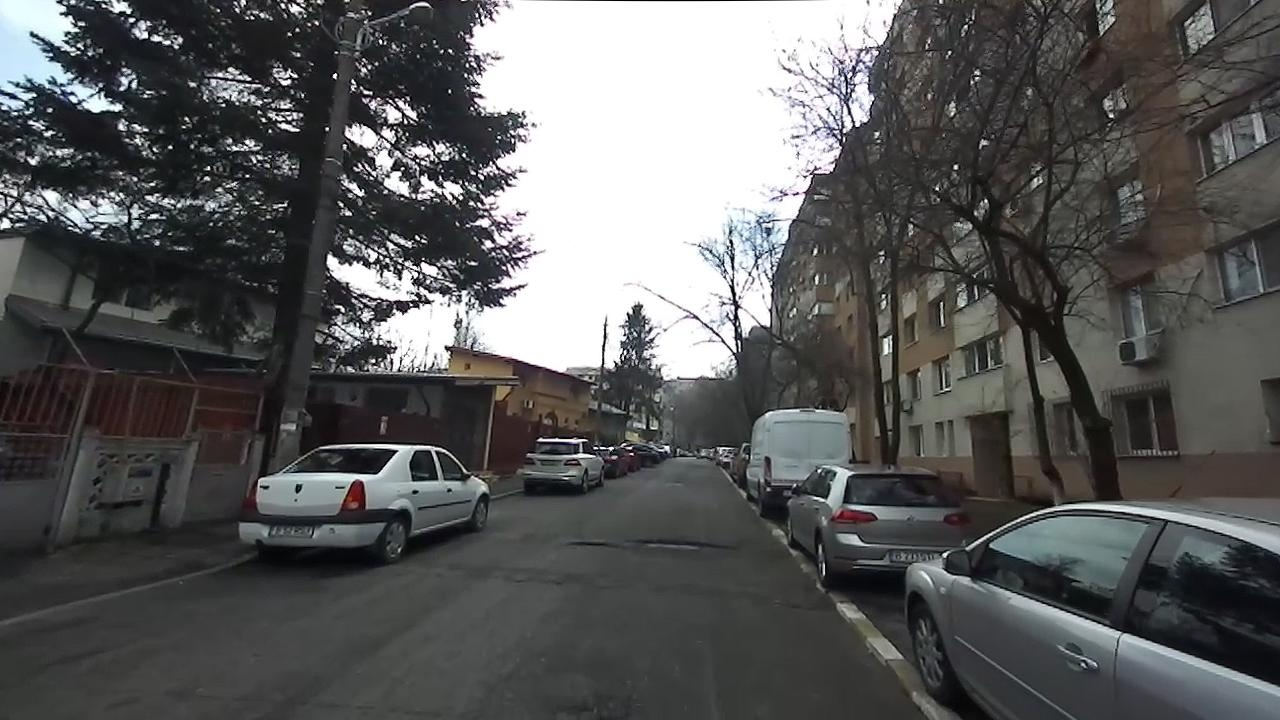pothole: (629, 533, 734, 555), (564, 534, 616, 554)
